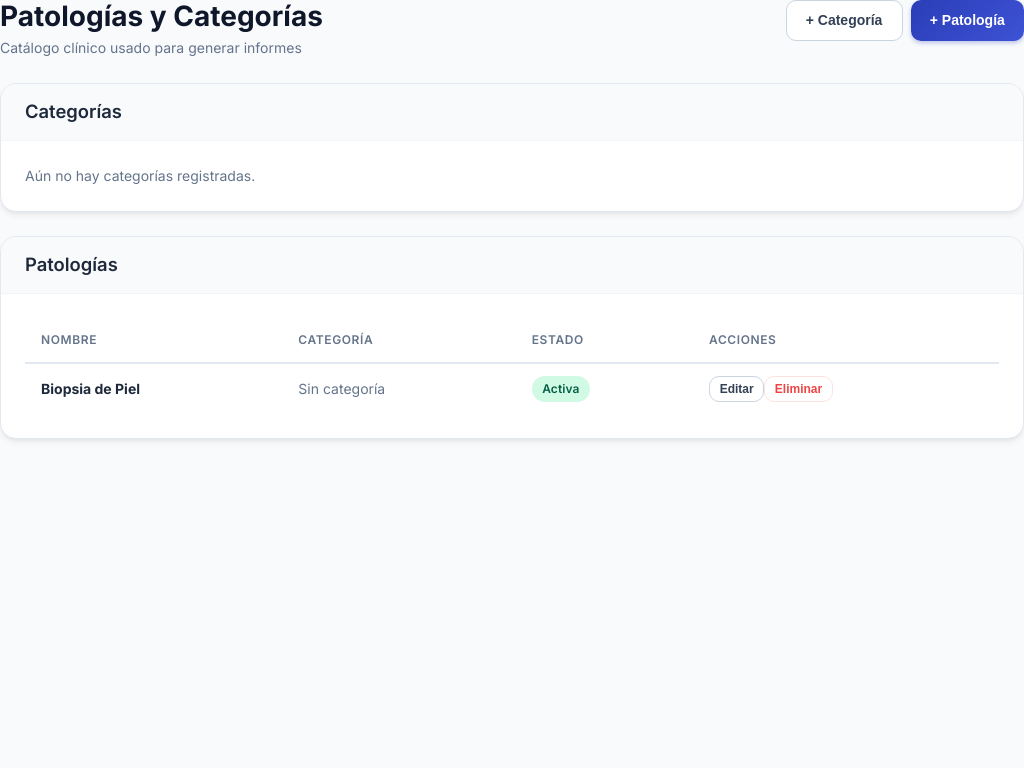
PatologiasPage: editar muestra todos los datos › al pulsar Editar se ven la descripción y el protocolo guardados
The width and height of the screenshot is (1024, 768).
What coordinates should you click on to do the following:
click the button "Editar"
I would click on:
 (737, 389)
Its box is [709,376,764,402].
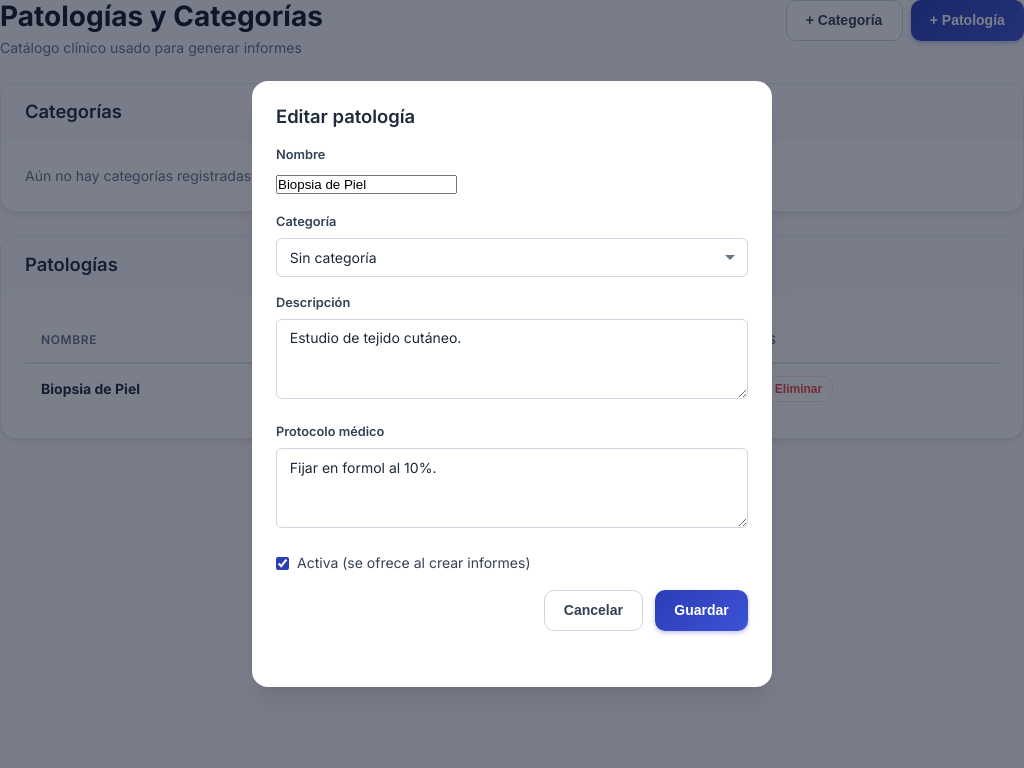
Expected: the text box showing "Estudio de tejido cutáneo." below "Descripción" is shown, [276,319,748,399]
Expected: the text box showing "Fijar en formol al 10%." below "Protocolo médico" is shown, [276,448,748,528]
